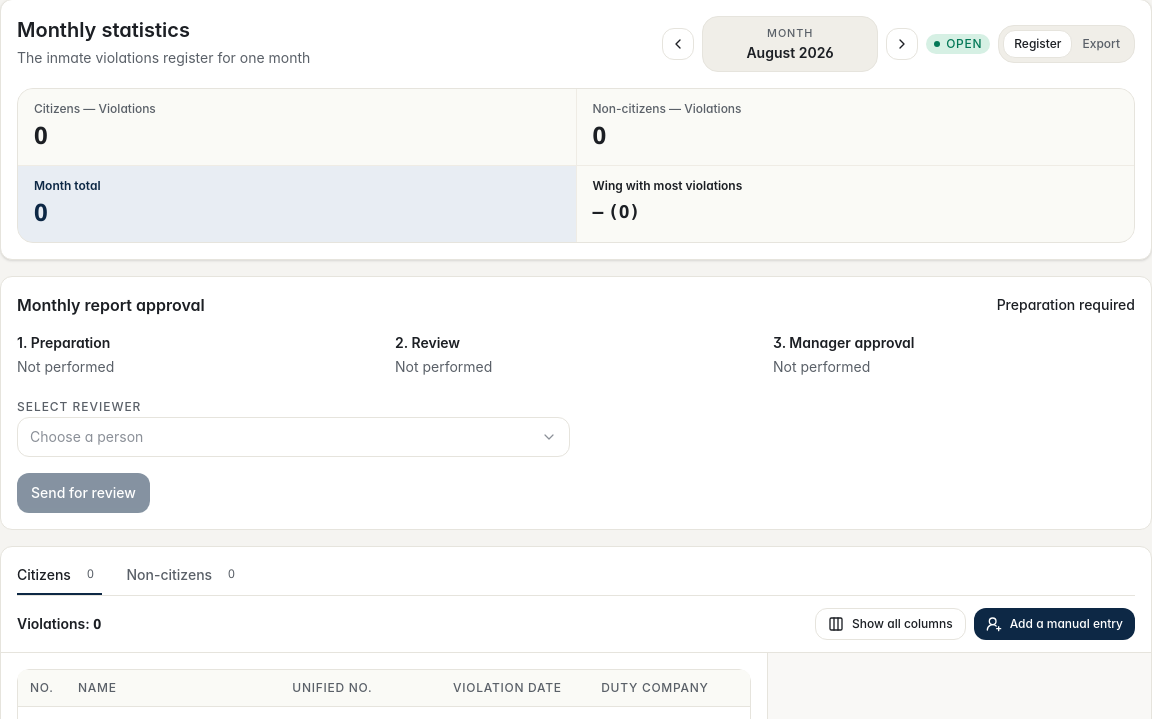
Test: StatisticsTab › keeps the shown month in the URL so a refresh reopens it
Click the button named "Next month". click: (902, 44)
box: x1=886 y1=28 x2=918 y2=60
(page scrolled)
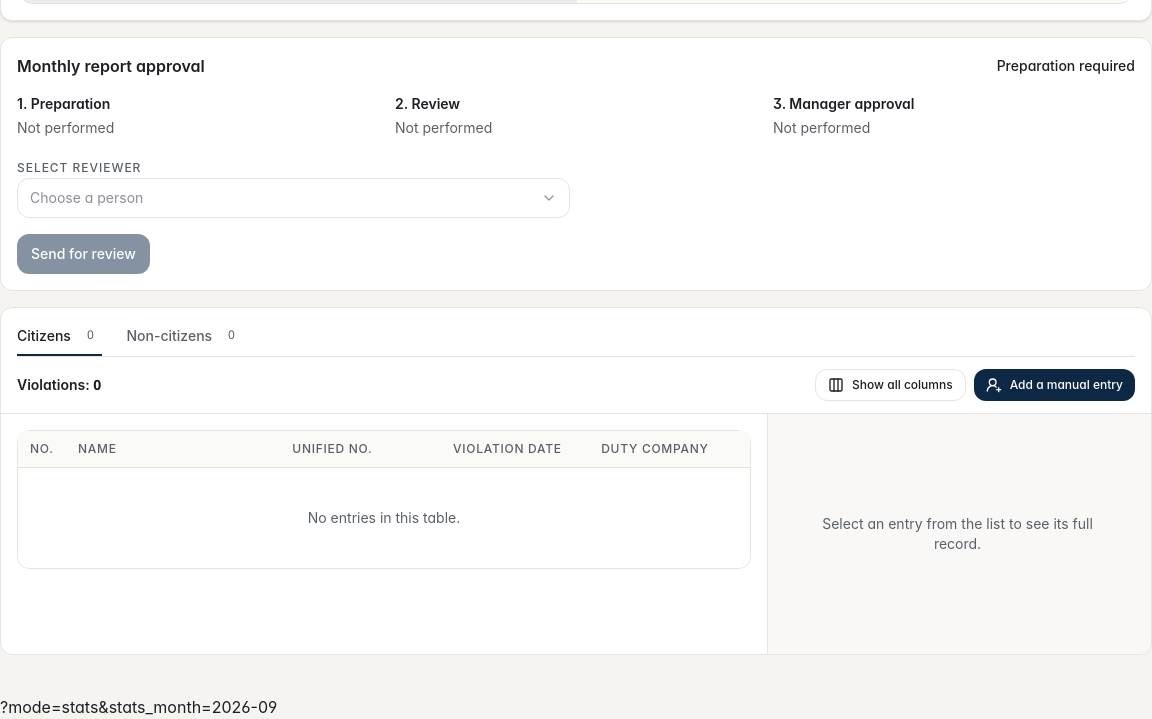
Expected: the text with test id "location" shows "stats_month=2026-09", x1=0 y1=697 x2=277 y2=717
